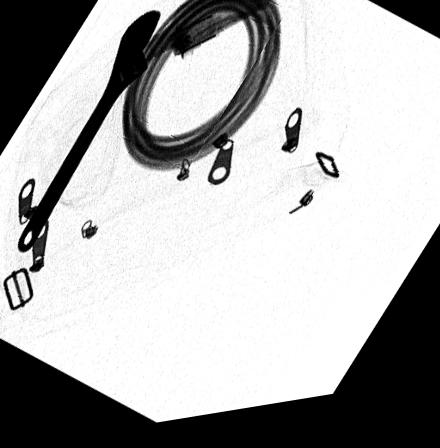Wrench: (14, 14, 165, 255)
